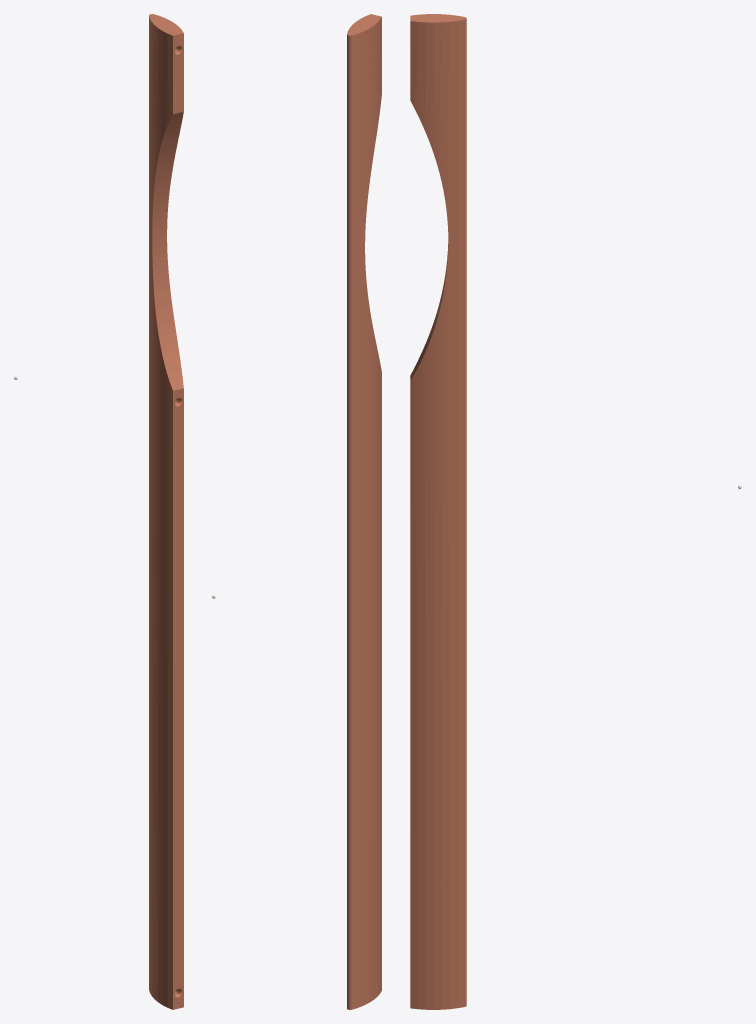
The model's file is 194 pvd r gold.glb.
3 views of the same model, side by side, from view 1: azimuth 30°, elevation 25°; view 2: azimuth 150°, elevation 25°; view 3: azimuth 270°, elevation 25° (orthographic).
Visible parts, largest first — view 1: CABINET_HANDLE_194; view 2: CABINET_HANDLE_194; view 3: CABINET_HANDLE_194.
Boxes of the visible parts, x1,y1,x2,y2 form: CABINET_HANDLE_194: [149, 14, 183, 1009]; CABINET_HANDLE_194: [347, 14, 381, 1009]; CABINET_HANDLE_194: [410, 14, 466, 1009].
Bounding box in the file's own units: 0.123 × 6.58 × 2.
